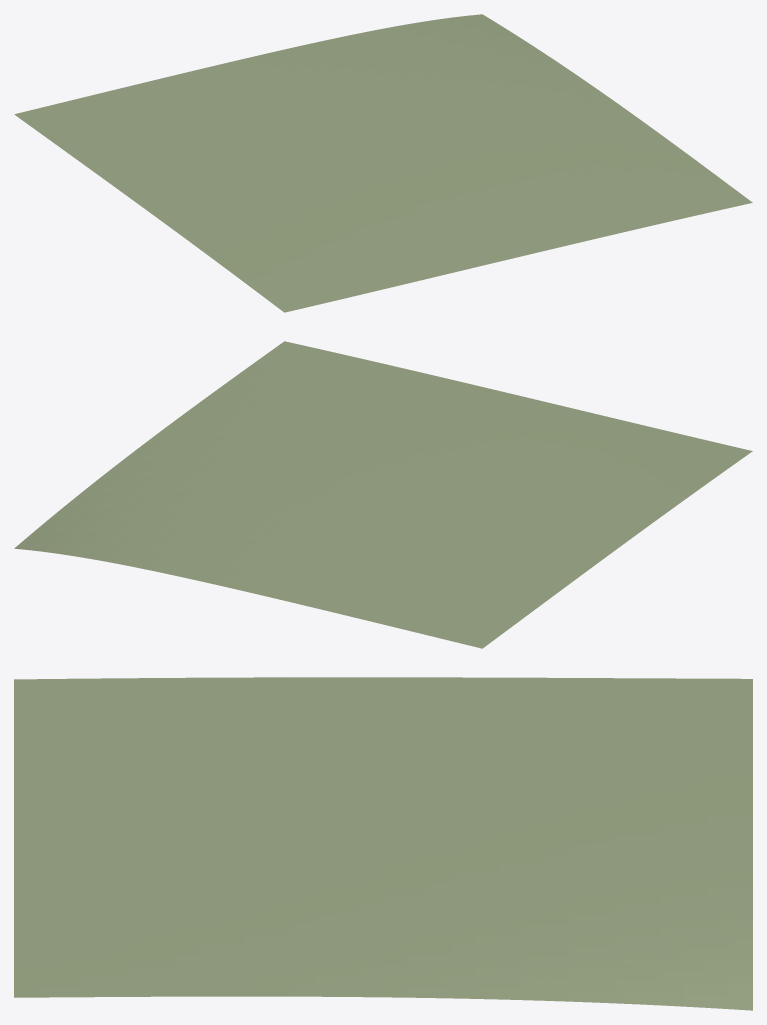
File: expanse-12-29.glb
The picture shows the model from 3 angles, top to bottom: view 1: azimuth 30°, elevation 25°; view 2: azimuth 150°, elevation 25°; view 3: azimuth 270°, elevation 25°; orthographic projection. The views are drawn at different scales.
Visible parts, largest first — view 1: expanse-12-29; view 2: expanse-12-29; view 3: expanse-12-29.
Part boxes in pixels (x1,y1,x2,y2): expanse-12-29: [14, 14, 752, 312]; expanse-12-29: [14, 341, 752, 648]; expanse-12-29: [14, 677, 752, 1010].
Bounding box in the file's own units: 256 × 8.04 × 256.
